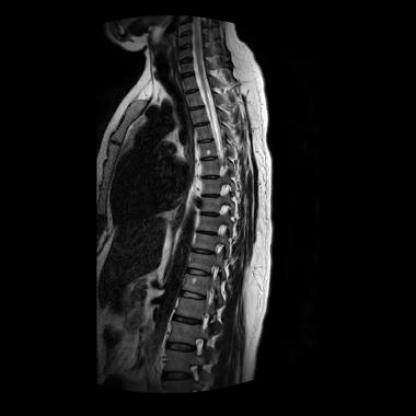Demyelinating Plaquesrotation: (199, 209, 222, 221), (198, 137, 215, 146)
Hemangiomatarotation: (185, 253, 218, 272), (194, 125, 214, 139)
